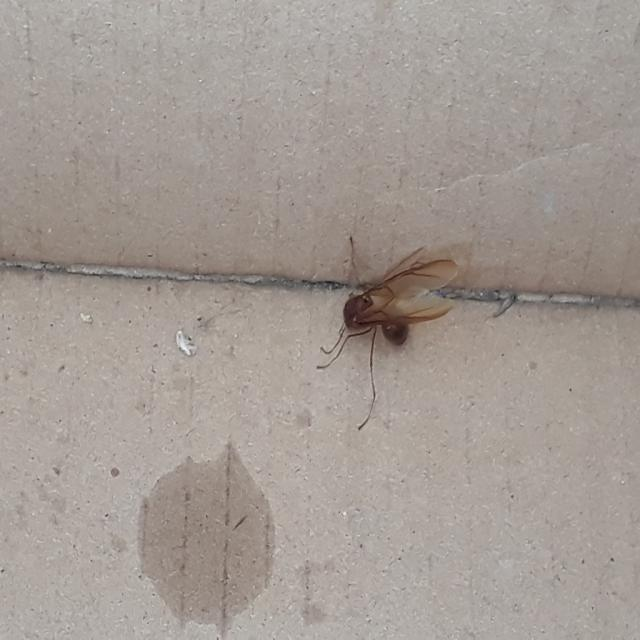Alive-Male-Alate: (316, 237, 459, 431)
